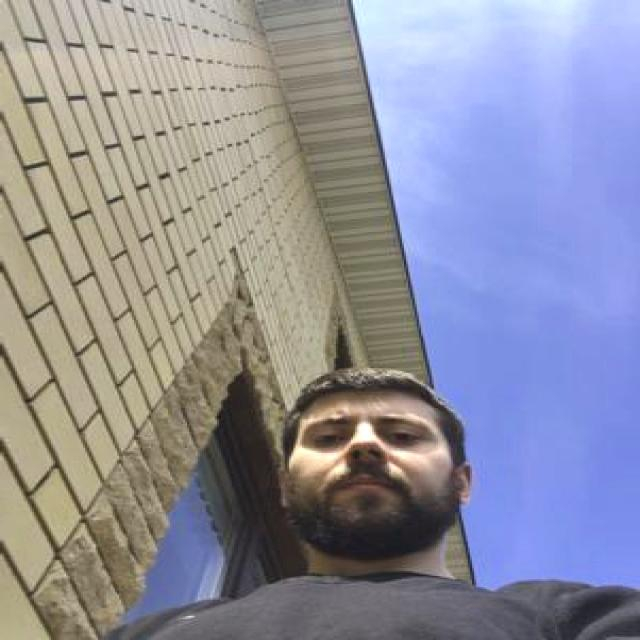face_nomask: (291, 408, 451, 557)
head_nohelmet: (298, 363, 474, 410)
person: (47, 339, 640, 640)
